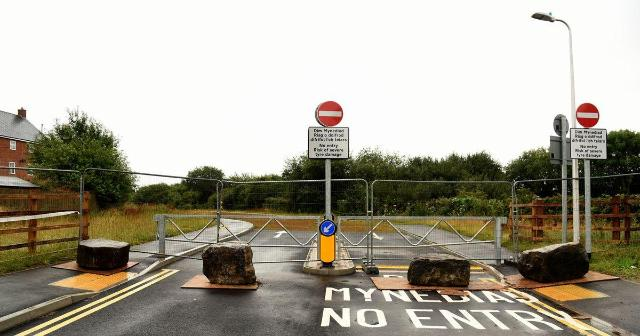B2: (315, 100, 343, 126), (575, 102, 599, 126)
